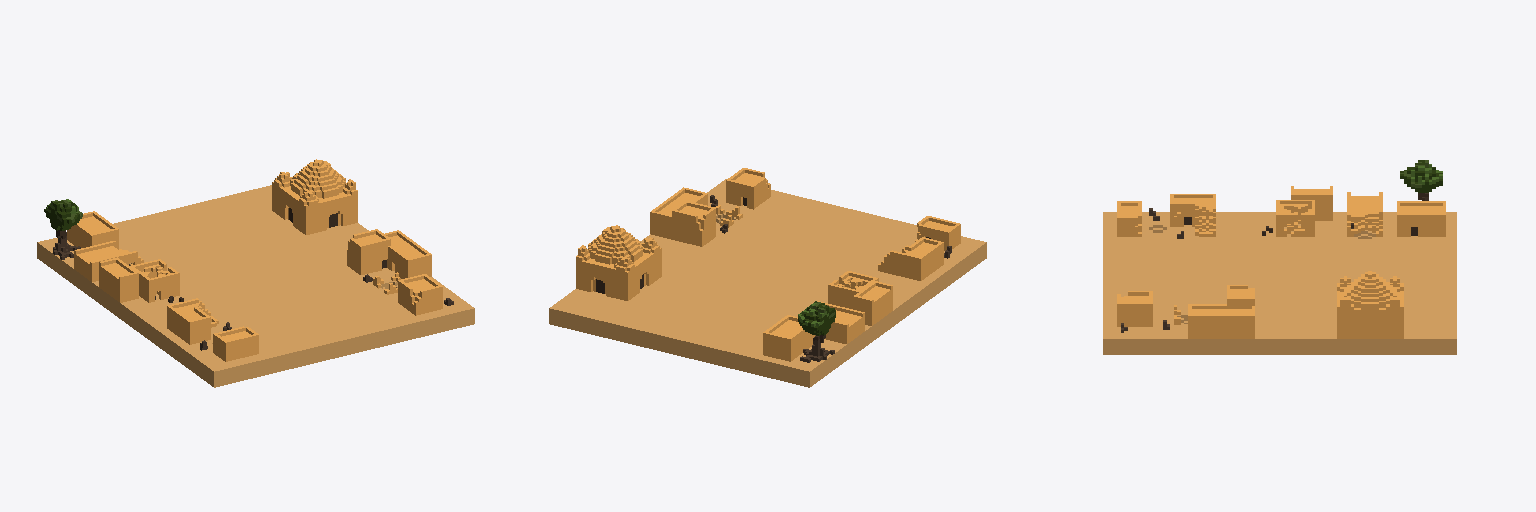
3 renders of one model, left to right at view 1: azimuth 30°, elevation 25°; view 2: azimuth 150°, elevation 25°; view 3: azimuth 270°, elevation 25°, orthographic.
Visible parts, largest first — view 1: object 1; view 2: object 1; view 3: object 1.
Part boxes in pixels (bbox=[...]): object 1: bbox=[37, 159, 474, 387]; object 1: bbox=[549, 168, 986, 387]; object 1: bbox=[1103, 160, 1456, 354].
Size of the model in its own units: 8.5 by 2.2 by 10.
Materials: 1 (1 with a texture image).